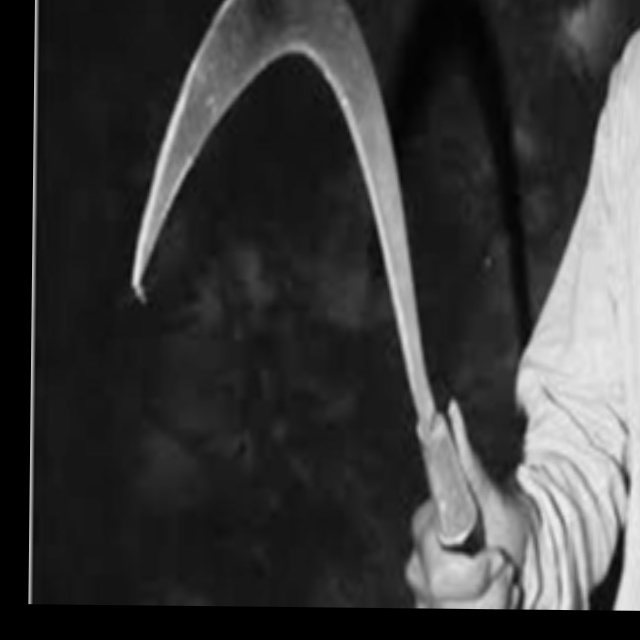Sharp-Object: (106, 0, 503, 602)
